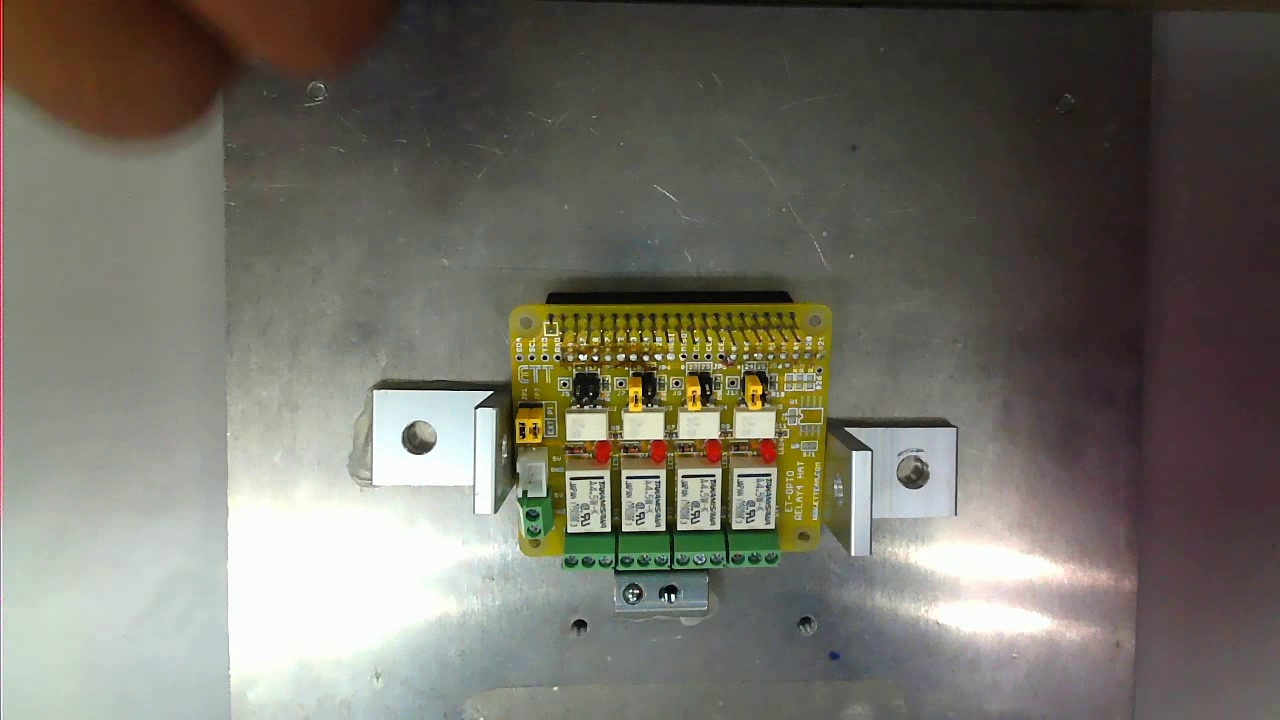can: (494, 296, 837, 575)
